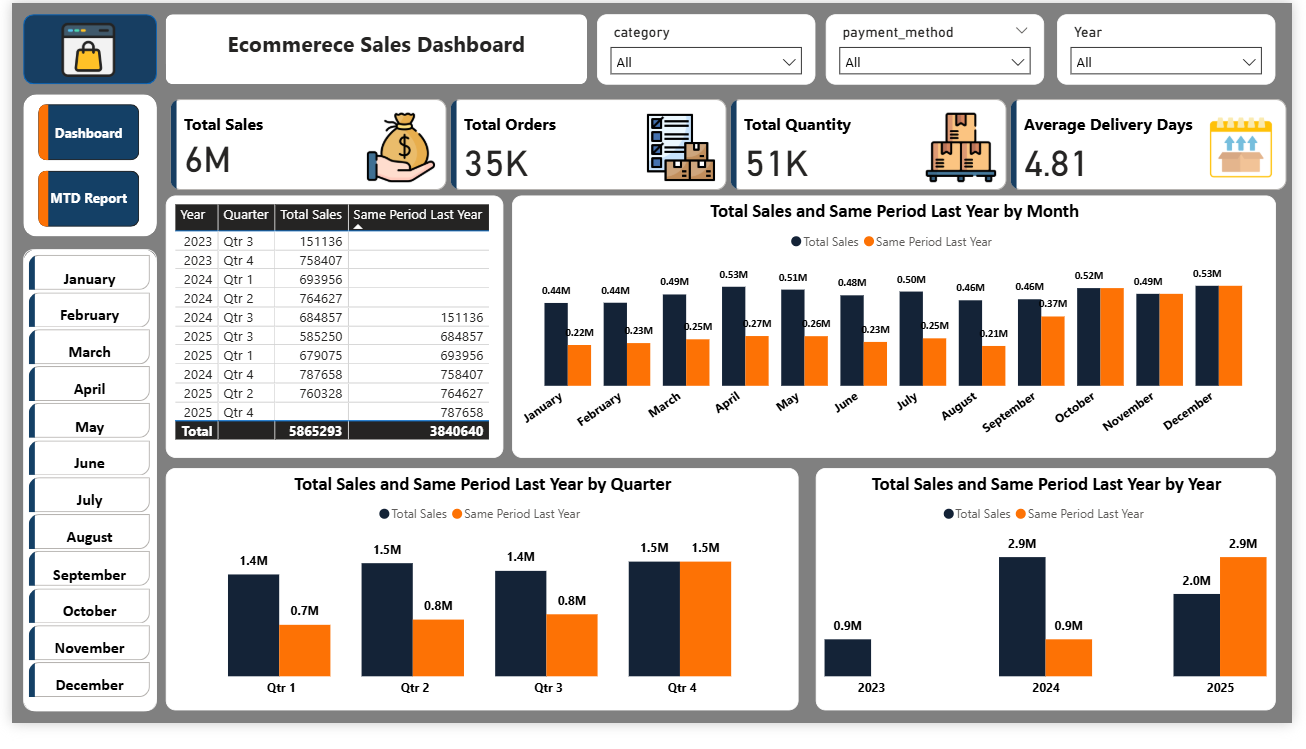

What the dashboard file says about the page in this screenshot:
{"tool":"powerbi","page":{"name":"Same Period Last Year","canvas":[1280,720],"ordinal":2},"visuals":[{"type":"shape","box":[11.2,11.2,133.8,70],"z":0},{"type":"shape","box":[11,90.8,133.7,142.3],"z":1000},{"type":"shape","box":[11,246.6,133.7,462.6],"z":2000},{"type":"cardVisual","fields":{"Data":["KPI.Total Sales","KPI.Total_Orders","KPI.Total_Quantity","KPI.Average Delivery Time"]},"box":[153.8,91.2,1126.2,101.2],"z":3000},{"type":"shape","box":[153.8,11.2,421.2,70],"z":4000},{"type":"textbox","box":[171.2,21.2,386.2,60],"z":5000},{"type":"slicer","fields":{"Values":["ecommerce_sales_34500.category"]},"box":[585,11.2,218.8,70],"z":6000},{"type":"image","box":[0,11,153.4,71.2],"z":7000},{"type":"slicer","fields":{"Values":["ecommerce_sales_34500.payment_method"]},"box":[813.8,11.2,218.8,70],"z":8000},{"type":"slicer","fields":{"Values":["Custom_calender.order_date.Variation.Date Hierarchy.Year"]},"box":[1045,11.2,218.8,70],"z":9000},{"type":"advancedSlicerVisual","fields":{"Values":["Custom_calender.order_date.Variation.Date Hierarchy.Month"]},"box":[11.2,246.2,133.8,461.2],"z":10000},{"type":"tableEx","fields":{"Values":["Custom_calender.order_date.Variation.Date Hierarchy.Year","Custom_calender.order_date.Variation.Date Hierarchy.Quarter","KPI.Total Sales","KPI.Same Period Last Year"]},"box":[153.8,192.5,337.5,262.5],"z":11000},{"type":"clusteredColumnChart","fields":{"Category":["Custom_calender.order_date.Variation.Date Hierarchy.Year","Custom_calender.order_date.Variation.Date Hierarchy.Quarter"],"Y":["KPI.Total Sales","KPI.Same Period Last Year"]},"box":[153.8,465,632.5,242.5],"z":12000},{"type":"clusteredColumnChart","fields":{"Y":["KPI.Total Sales","KPI.Same Period Last Year"],"Category":["Custom_calender.order_date.Variation.Date Hierarchy.Month"]},"box":[500,192.5,763.8,262.5],"z":13000},{"type":"clusteredColumnChart","fields":{"Category":["Custom_calender.order_date.Variation.Date Hierarchy.Year"],"Y":["KPI.Total Sales","KPI.Same Period Last Year"]},"box":[803.8,465,460,242.5],"z":14000},{"type":"pageNavigator","box":[26.2,101.2,101.2,122.5],"z":15000}]}

Visuals, with their boxes in screenshot pixels (x1, y1, x2, y2), scaled from the page's 1280x720 canvas onto the 1306x749 screenshot:
shape: (x1=11, y1=12, x2=148, y2=84)
shape: (x1=11, y1=94, x2=148, y2=242)
shape: (x1=11, y1=257, x2=148, y2=738)
cardVisual - KPI.Total Sales x KPI.Total_Orders: (x1=157, y1=95, x2=1305, y2=200)
shape: (x1=157, y1=12, x2=587, y2=84)
textbox: (x1=175, y1=22, x2=569, y2=84)
slicer - ecommerce_sales_34500.category: (x1=597, y1=12, x2=820, y2=84)
image: (x1=0, y1=11, x2=157, y2=86)
slicer - ecommerce_sales_34500.payment_method: (x1=830, y1=12, x2=1054, y2=84)
slicer - Custom_calender.order_date.Variation.Date Hierarchy.Year: (x1=1066, y1=12, x2=1289, y2=84)
advancedSlicerVisual - Custom_calender.order_date.Variation.Date Hierarchy.Month: (x1=11, y1=256, x2=148, y2=736)
tableEx - Custom_calender.order_date.Variation.Date Hierarchy.Year x Custom_calender.order_date.Variation.Date Hierarchy.Quarter: (x1=157, y1=200, x2=501, y2=473)
clusteredColumnChart - Custom_calender.order_date.Variation.Date Hierarchy.Year x Custom_calender.order_date.Variation.Date Hierarchy.Quarter: (x1=157, y1=484, x2=802, y2=736)
clusteredColumnChart - KPI.Total Sales x KPI.Same Period Last Year: (x1=510, y1=200, x2=1289, y2=473)
clusteredColumnChart - Custom_calender.order_date.Variation.Date Hierarchy.Year x KPI.Total Sales: (x1=820, y1=484, x2=1289, y2=736)
pageNavigator: (x1=27, y1=105, x2=130, y2=233)
